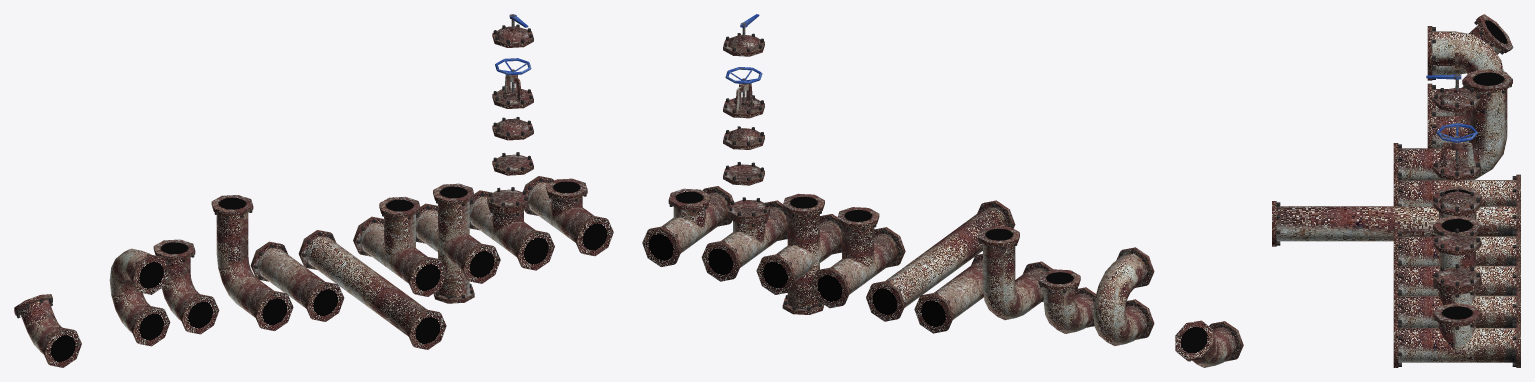
File: Sewer.glb
The picture shows the model from 3 angles, left to right: view 1: azimuth 30°, elevation 25°; view 2: azimuth 150°, elevation 25°; view 3: azimuth 270°, elevation 25°; orthographic projection. The views are drawn at different scales.
Parts seen in each view (by area): view 1: Pipe_004, Pipe_002, Pipe_006, Pipe_003, Pipe_008, Pipe_001, Pipe, Pipe_005, Pipe_007, Pipe_009, Pipe_012, Pipe_011 (+2 smaller); view 2: Pipe_002, Pipe_004, Pipe_003, Pipe_008, Pipe_006, Pipe_001, Pipe, Pipe_007, Pipe_005, Pipe_009, Pipe_012, Pipe_013 (+2 smaller); view 3: Pipe_004, Pipe, Pipe_006, Pipe_001, Pipe_002, Pipe_003, Pipe_008, Pipe_005, Pipe_012, Pipe_009, Pipe_007, Pipe_011 (+4 smaller).
Part boxes in pixels (<box>): Pipe_004: <box>298,230,446,349</box>; Pipe_002: <box>416,183,500,303</box>; Pipe_006: <box>211,195,293,330</box>; Pipe_003: <box>353,196,446,296</box>; Pipe_008: <box>109,248,170,346</box>; Pipe_001: <box>469,187,554,270</box>; Pipe: <box>523,176,613,256</box>; Pipe_005: <box>250,241,344,321</box>; Pipe_007: <box>153,239,219,334</box>; Pipe_009: <box>14,294,81,367</box>; Pipe_012: <box>492,74,533,108</box>; Pipe_011: <box>492,117,533,140</box>; Pipe_002: <box>756,193,841,314</box>; Pipe_004: <box>866,200,1015,321</box>; Pipe_003: <box>811,207,905,308</box>; Pipe_008: <box>1093,247,1154,345</box>; Pipe_006: <box>978,226,1053,320</box>; Pipe_001: <box>701,197,787,281</box>; Pipe: <box>642,186,733,266</box>; Pipe_007: <box>1038,269,1095,333</box>; Pipe_005: <box>914,254,983,333</box>; Pipe_009: <box>1175,320,1243,367</box>; Pipe_012: <box>723,83,764,118</box>; Pipe_013: <box>723,33,764,56</box>; Pipe_004: <box>1272,201,1520,246</box>; Pipe: <box>1393,302,1520,367</box>; Pipe_006: <box>1393,69,1512,179</box>; Pipe_001: <box>1393,264,1520,327</box>; Pipe_002: <box>1393,216,1520,295</box>; Pipe_003: <box>1393,186,1520,265</box>; Pipe_008: <box>1427,26,1503,115</box>; Pipe_005: <box>1393,174,1520,206</box>; Pipe_012: <box>1433,142,1481,180</box>; Pipe_009: <box>1427,14,1513,80</box>; Pipe_007: <box>1427,72,1470,148</box>; Pipe_011: <box>1433,189,1481,216</box>.
Bounding box in the file's own units: 5.91 × 2.7 × 2.04.
1 material, 1 textured.
